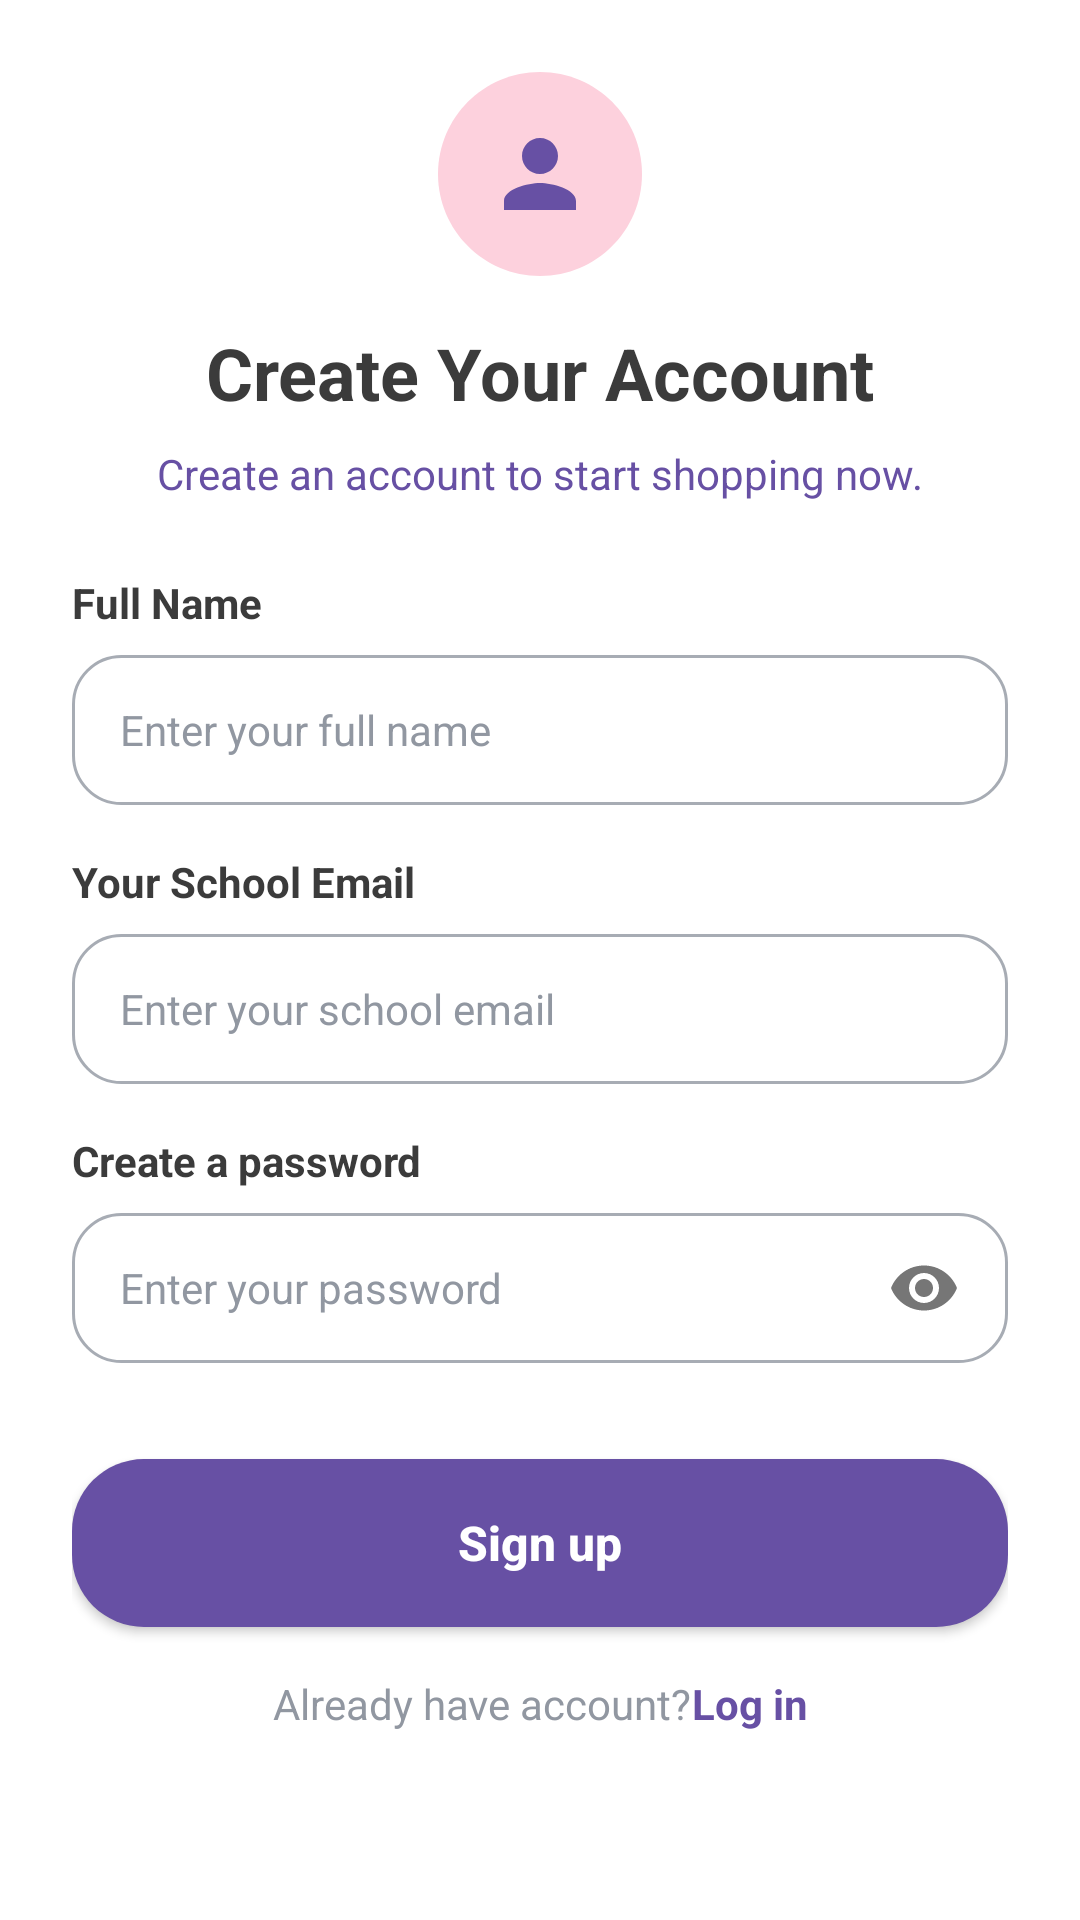

Icons on this 1080 × 1920 Android screen, each with its box as (x1, y1, x2, y2):
user male: (438, 72, 642, 276)
